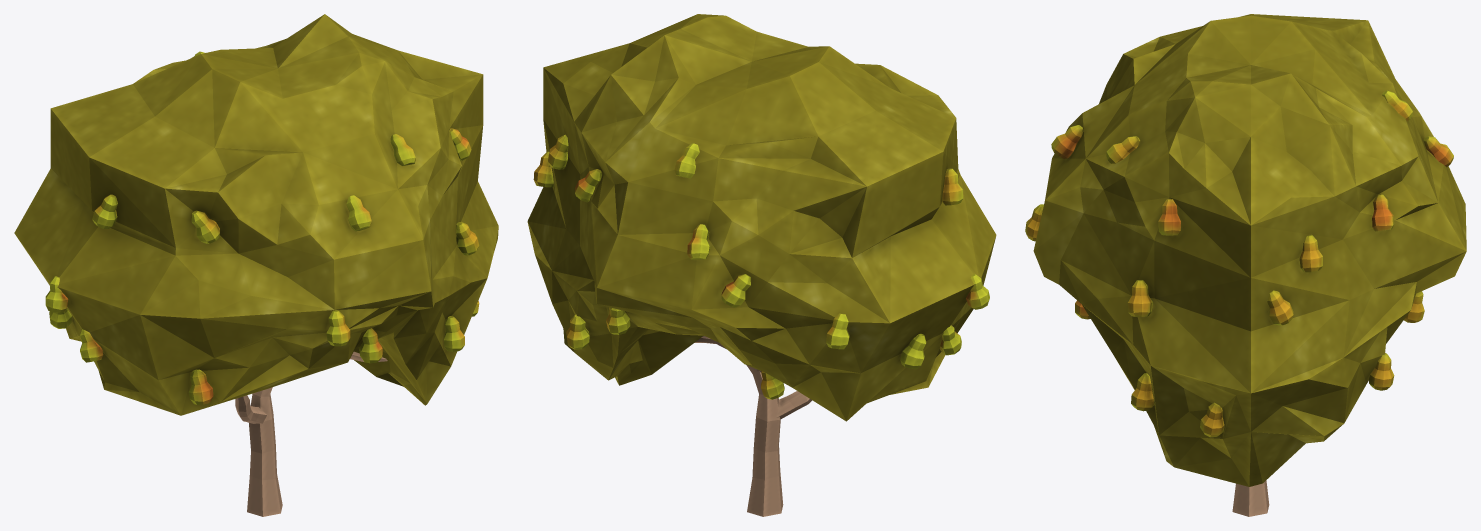
File: pear-plant.glb
3 renders of one model, left to right at view 1: azimuth 30°, elevation 25°; view 2: azimuth 150°, elevation 25°; view 3: azimuth 270°, elevation 25°, orthographic. The views are drawn at different scales.
Visible parts, largest first — view 1: PeerTree_mesh; view 2: PeerTree_mesh; view 3: PeerTree_mesh.
Boxes of the visible parts, x1,y1,x2,y2 form: PeerTree_mesh: [14, 14, 498, 516]; PeerTree_mesh: [527, 14, 996, 516]; PeerTree_mesh: [1025, 14, 1466, 516].
Size of the model in its own units: 1 by 0.9717 by 0.8185.
Materials: 1 (1 with a texture image).
